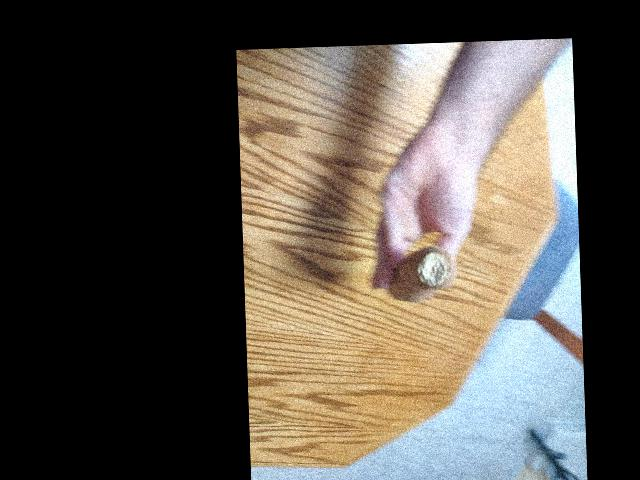sweet_potato: (382, 229, 465, 312)
